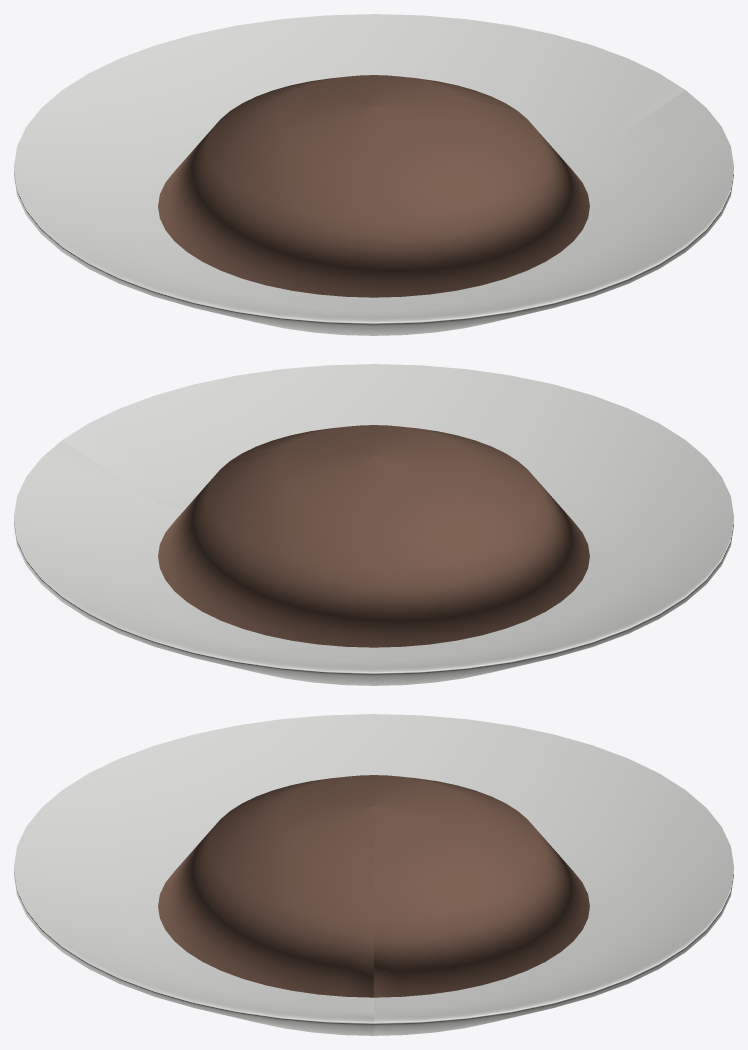
The model's file is feijoada.glb.
3 renders of one model, top to bottom at view 1: azimuth 30°, elevation 25°; view 2: azimuth 150°, elevation 25°; view 3: azimuth 270°, elevation 25°, orthographic.
Visible parts, largest first — view 1: feijoada; view 2: feijoada; view 3: feijoada.
Part boxes in pixels (box(x1,y1,x2,y2)): feijoada: box(14, 14, 733, 335); feijoada: box(14, 364, 733, 685); feijoada: box(14, 714, 733, 1035).
Bounding box in the file's own units: 0.26 × 0.052 × 0.26.
